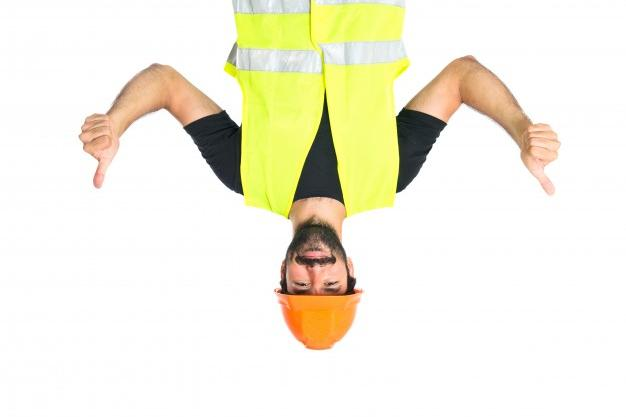thumbsdown: (79, 113, 114, 190), (526, 123, 561, 196)
